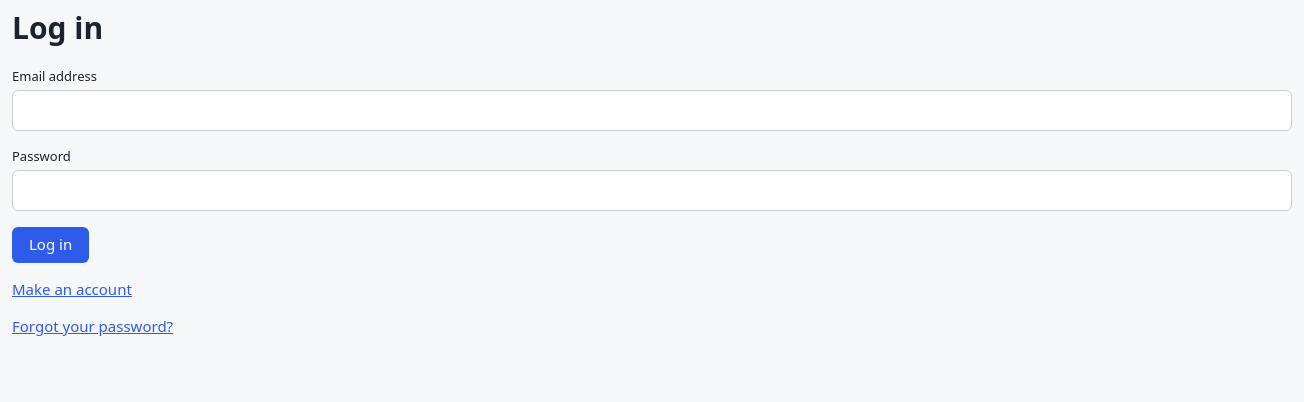
auth requirements › AUTH-002 login of a user who did not verify the address shows the verification message
Type "ann@example.com" into the field labelled "Email address" at (652, 110), box x1=12 y1=90 x2=1292 y2=131
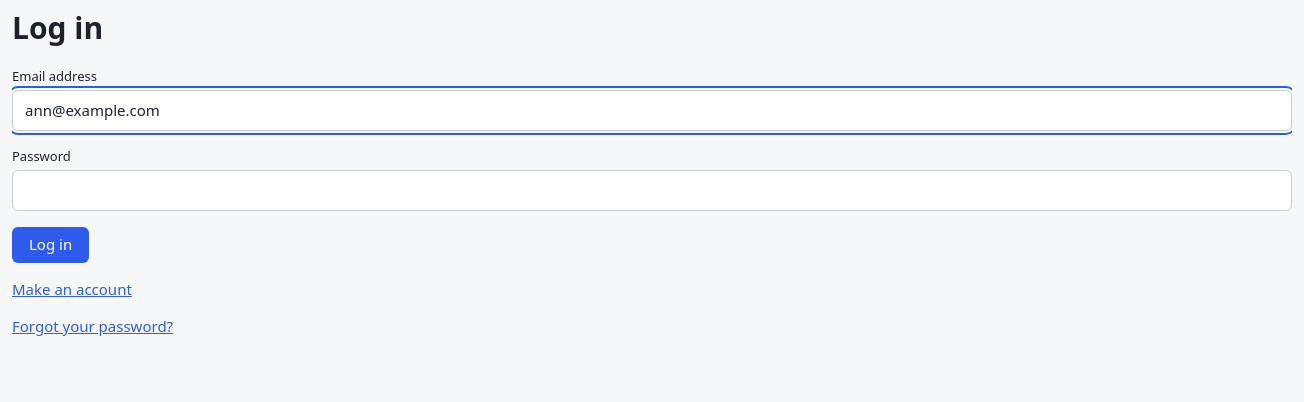
Type "a-long-password-1" into the password field labelled "Password" at (652, 190), box x1=12 y1=170 x2=1292 y2=211
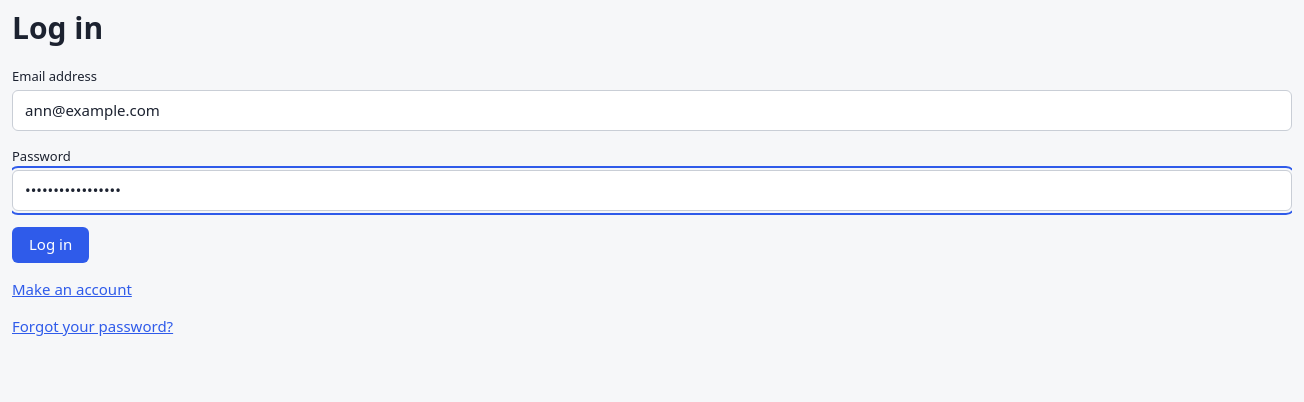
Click the button "Log in" at (51, 245), box x1=12 y1=227 x2=89 y2=263
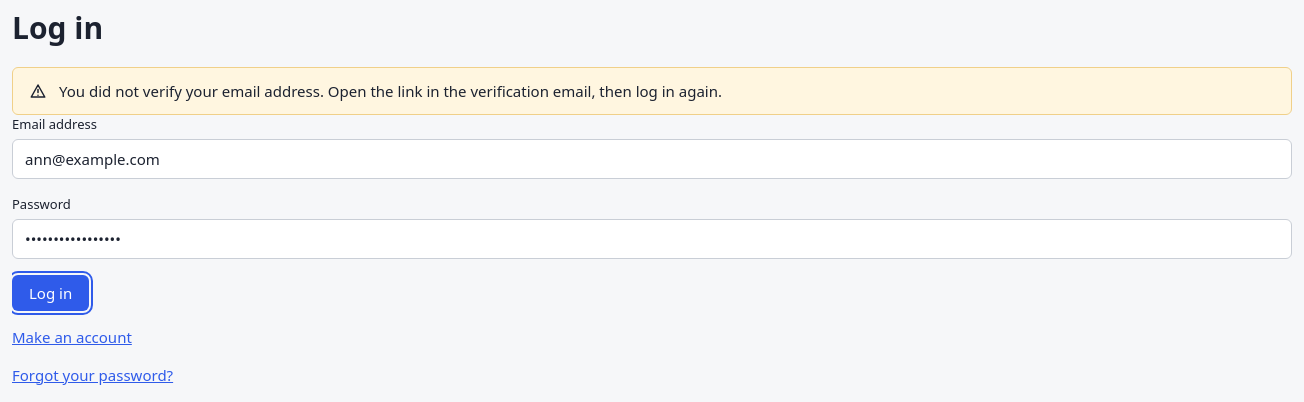
Check: the text "You did not verify your email address. Open the link in the verification email, then log in again." is shown, box x1=59 y1=81 x2=722 y2=101
